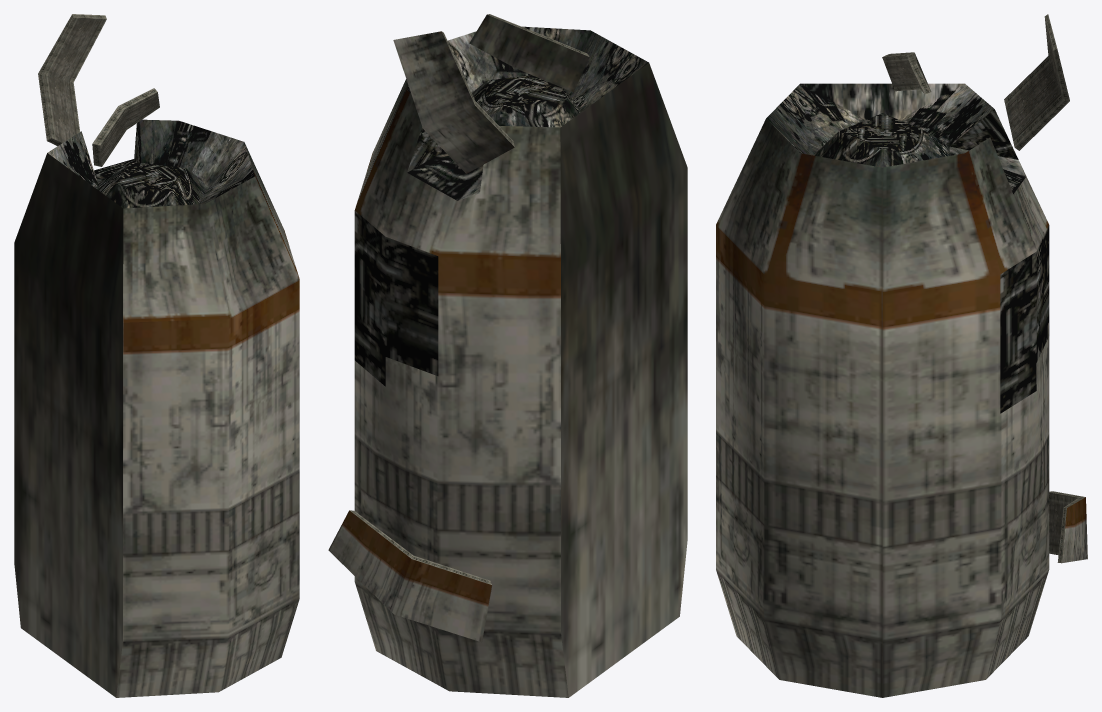
The model's file is thm_tato_lucky_despot_debris_lg_engine_s02_l2.fbx.
The picture shows the model from 3 angles, left to right: view 1: azimuth 30°, elevation 25°; view 2: azimuth 150°, elevation 25°; view 3: azimuth 270°, elevation 25°; orthographic projection. The views are drawn at different scales.
Parts seen in each view (by area): view 1: mesh_node; view 2: mesh_node; view 3: mesh_node.
Part boxes in pixels (<box>): mesh_node: <box>14,14,299,697</box>; mesh_node: <box>328,14,687,697</box>; mesh_node: <box>716,14,1087,697</box>.
Bounding box in the file's own units: 18.42 × 46.77 × 25.39.
